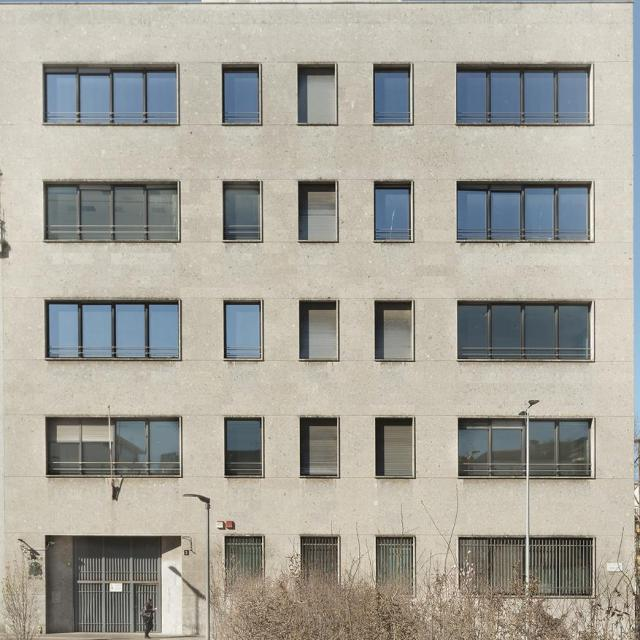door: (73, 532, 165, 633)
window: (48, 66, 180, 126), (45, 180, 177, 240), (48, 298, 180, 358), (49, 415, 181, 475), (459, 418, 592, 477), (457, 305, 590, 364), (454, 68, 587, 127), (453, 183, 587, 241), (461, 536, 592, 593), (375, 417, 417, 474), (295, 67, 337, 123), (223, 66, 262, 126), (224, 182, 262, 242), (222, 299, 260, 359), (228, 415, 266, 475), (375, 300, 413, 360), (299, 302, 337, 361), (300, 182, 336, 243), (373, 67, 411, 123), (372, 184, 409, 240), (379, 538, 417, 591), (300, 420, 338, 472), (223, 534, 261, 578), (299, 538, 337, 573)
